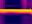Hotspot: (0, 9, 31, 12)
